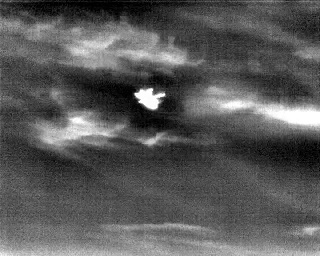HELICOPTER: (132, 82, 169, 116)
